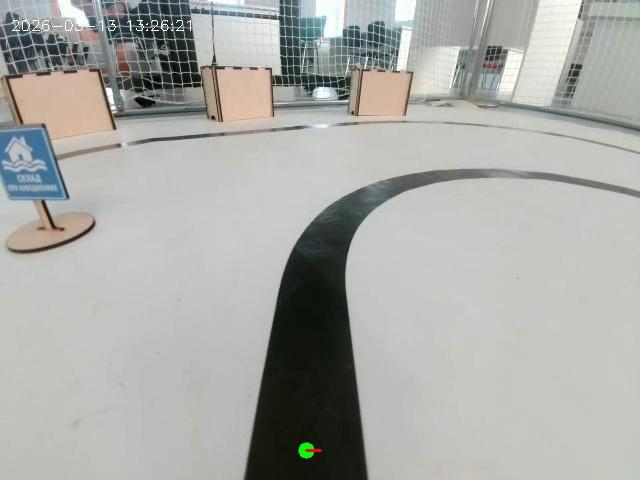flood: (0, 81, 101, 250)
